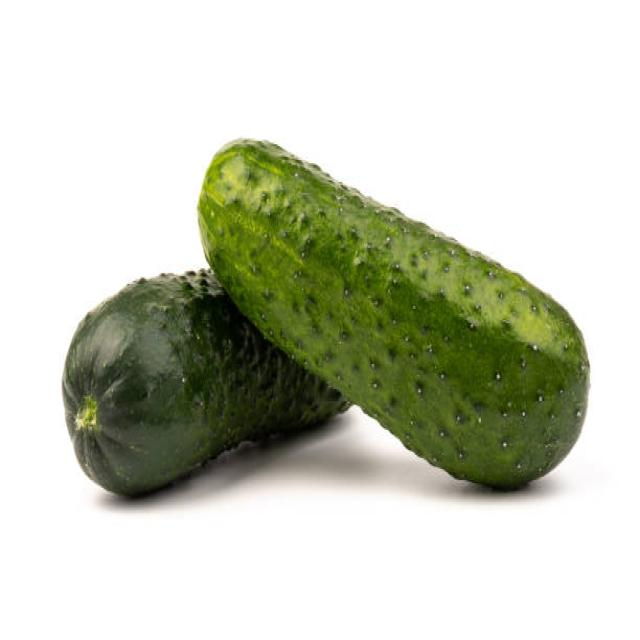cucumber: (197, 138, 590, 492), (61, 267, 352, 495)
